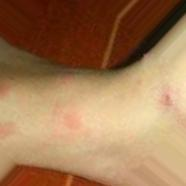Fleas: (0, 123, 15, 138), (63, 114, 79, 127), (161, 92, 175, 106)
